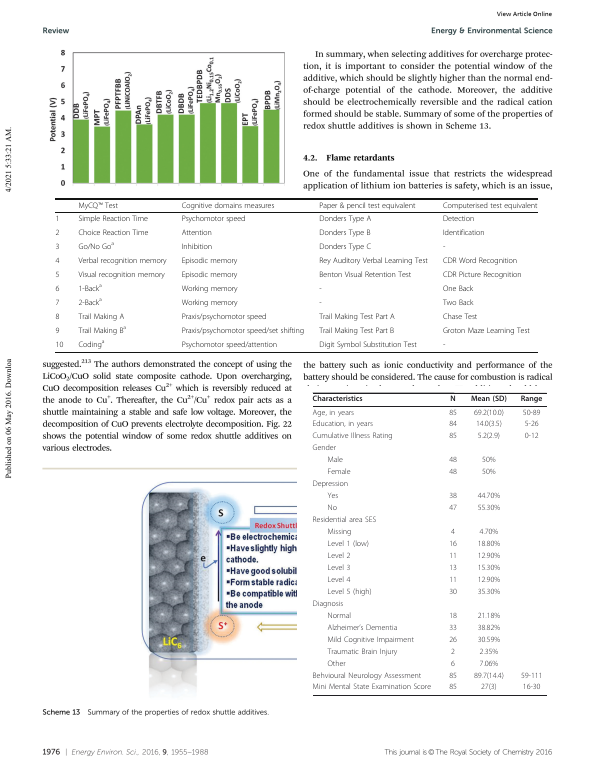borderless: (55, 197, 538, 352), (312, 391, 547, 695)
cell: (181, 326, 305, 336), (312, 683, 432, 693), (318, 256, 429, 266), (312, 671, 422, 681), (318, 340, 418, 350), (181, 340, 278, 350), (318, 270, 412, 280), (77, 256, 167, 266), (77, 270, 166, 280), (442, 326, 531, 336), (326, 635, 415, 645), (318, 201, 416, 210), (442, 201, 538, 210), (181, 312, 267, 322), (181, 201, 275, 210), (312, 432, 394, 442), (442, 270, 523, 280), (318, 312, 396, 322), (318, 326, 395, 336), (442, 256, 518, 266), (77, 214, 149, 224), (77, 228, 149, 238), (326, 623, 398, 633), (326, 647, 398, 657), (181, 214, 246, 224), (312, 420, 374, 430), (77, 324, 127, 336), (312, 516, 377, 525), (181, 284, 239, 294), (181, 298, 239, 308), (181, 256, 238, 266), (181, 270, 238, 280), (318, 214, 372, 224), (318, 242, 372, 252), (318, 228, 371, 238), (77, 312, 125, 322), (312, 395, 363, 404), (77, 240, 115, 252), (442, 228, 485, 238), (312, 408, 355, 418), (326, 588, 373, 597), (326, 540, 370, 549), (77, 201, 119, 210), (442, 312, 478, 322), (470, 395, 508, 404), (77, 338, 105, 350), (312, 480, 349, 489), (442, 214, 475, 224), (181, 228, 213, 238), (181, 242, 213, 252), (442, 284, 474, 294), (442, 298, 474, 308), (473, 408, 505, 418), (473, 671, 505, 681), (77, 282, 103, 294), (77, 296, 103, 308), (312, 600, 344, 609), (475, 420, 503, 430), (326, 611, 352, 621), (312, 444, 337, 454), (477, 432, 501, 442), (477, 611, 501, 621), (477, 623, 501, 633), (477, 635, 501, 645), (326, 528, 352, 537), (520, 671, 543, 681), (326, 468, 351, 477), (326, 552, 351, 561), (326, 564, 351, 573), (326, 576, 351, 585), (477, 492, 501, 501), (477, 504, 501, 513), (477, 540, 501, 549), (477, 552, 501, 561), (477, 564, 501, 573), (477, 576, 501, 585), (477, 588, 501, 597), (478, 647, 499, 657), (326, 659, 347, 669), (478, 659, 499, 669), (520, 395, 543, 404), (522, 408, 541, 418), (522, 683, 541, 693), (478, 528, 499, 537), (326, 456, 344, 466), (480, 683, 498, 693), (524, 420, 539, 430), (524, 432, 539, 442), (481, 456, 496, 466), (481, 468, 496, 477), (326, 492, 339, 501), (326, 504, 338, 513), (448, 408, 458, 418), (448, 420, 458, 430), (448, 432, 458, 442), (448, 456, 458, 466), (448, 611, 458, 621), (448, 623, 458, 633), (448, 635, 458, 645), (448, 671, 458, 681), (448, 683, 458, 693), (55, 340, 64, 350), (448, 468, 458, 477), (448, 492, 458, 501), (448, 504, 458, 513), (448, 540, 458, 549), (448, 552, 458, 561), (448, 564, 458, 573), (448, 576, 458, 585), (448, 588, 458, 597), (449, 395, 457, 404), (54, 214, 60, 224), (54, 228, 60, 238), (54, 242, 60, 252), (450, 647, 456, 657), (450, 659, 456, 669), (450, 528, 456, 537), (55, 256, 60, 266), (55, 270, 60, 280), (55, 284, 60, 294), (318, 284, 323, 294), (55, 298, 60, 308), (318, 298, 323, 308), (55, 312, 60, 322), (55, 326, 60, 336), (442, 242, 446, 252), (442, 340, 446, 350)
